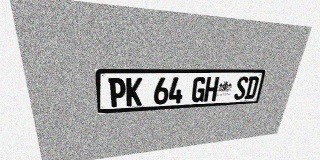4: (168, 77, 184, 104)
6: (153, 77, 170, 105)
D: (244, 76, 260, 99)
G: (191, 77, 207, 102)
H: (203, 77, 219, 102)
K: (126, 78, 142, 106)
P: (108, 78, 126, 107)
S: (233, 76, 249, 100)
